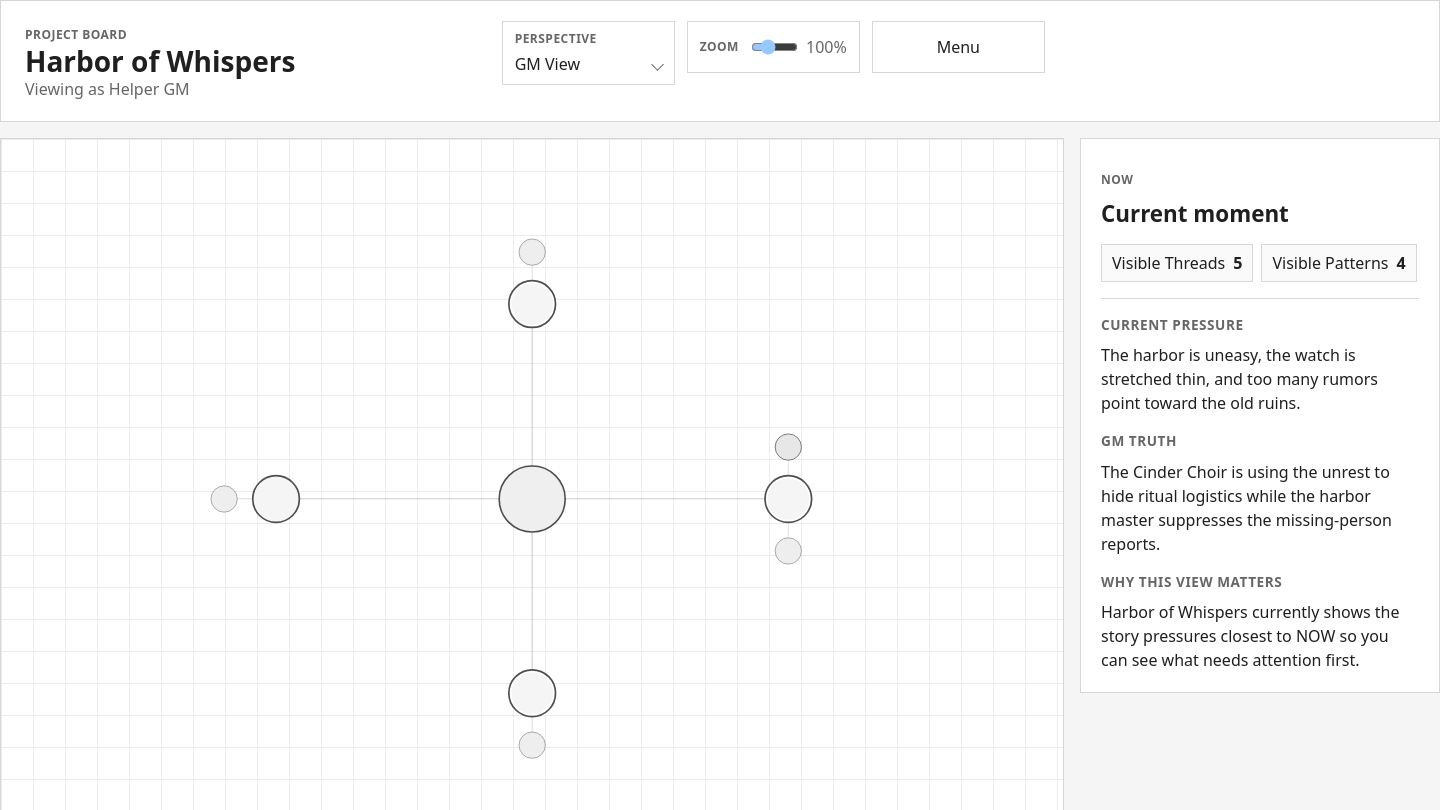
Test case: project board page › shows share actions for helper users but keeps edit gm-only
Right-click the button with test id "graph-node-pattern-ash-ritual": [532, 305] box left=512, top=284, right=552, bottom=325
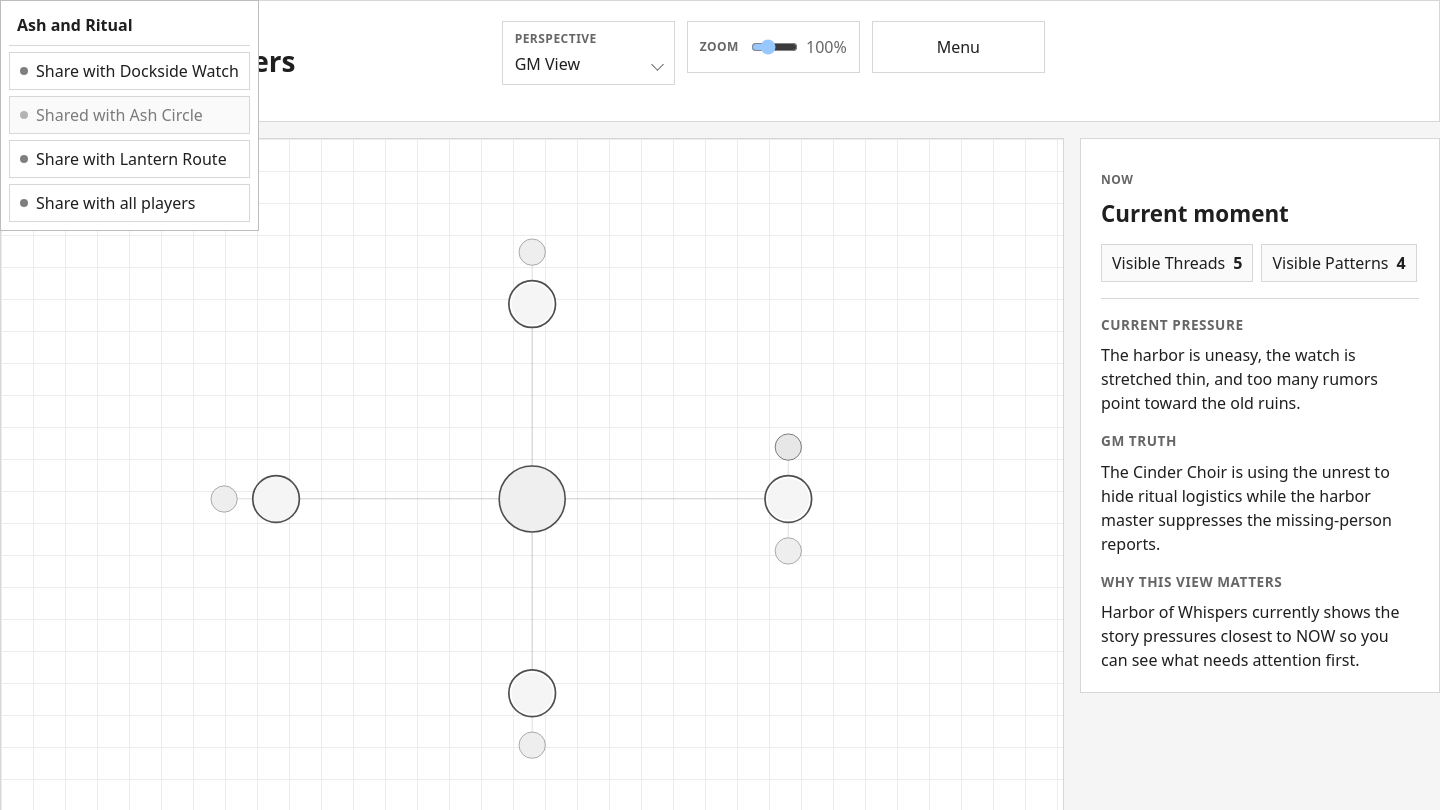
Expected: the menu item "Share with Dockside Watch" is shown, left=9, top=52, right=250, bottom=90
Expected: the menu item "Share with all players" is shown, left=9, top=184, right=250, bottom=222
